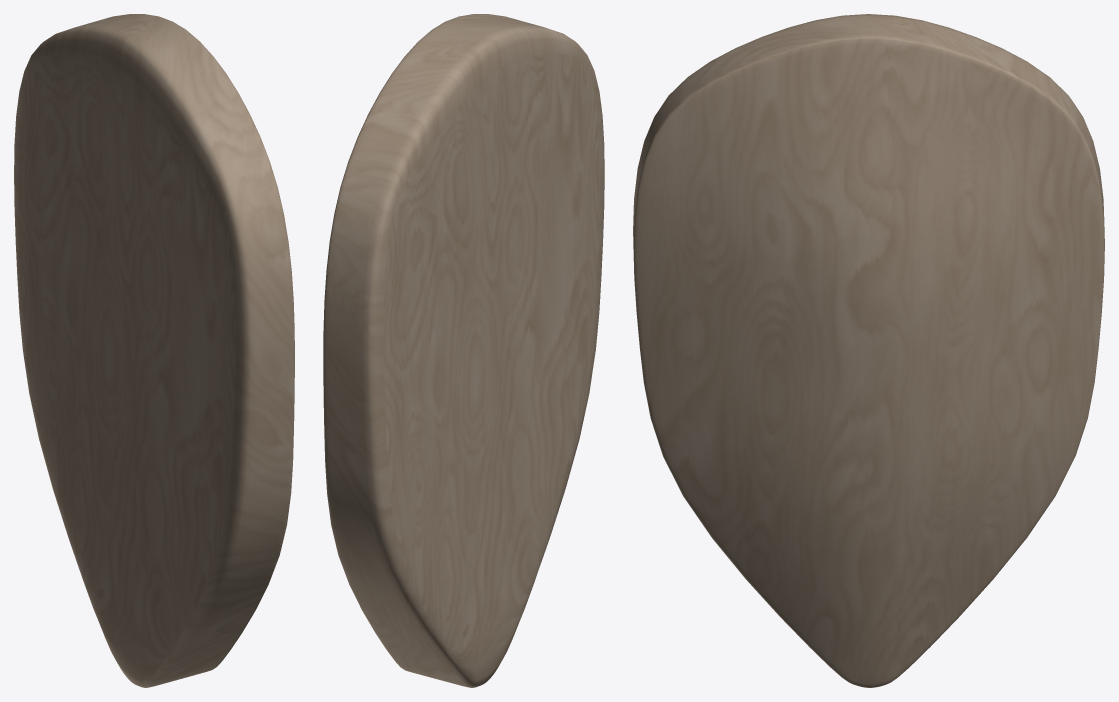
Rendered from Base moustache.fbx.
3 views of the same model, side by side, from view 1: azimuth 30°, elevation 25°; view 2: azimuth 150°, elevation 25°; view 3: azimuth 270°, elevation 25° (orthographic).
Parts seen in each view (by area): view 1: Base moustache; view 2: Base moustache; view 3: Base moustache.
Part boxes in pixels (x1,y1,x2,y2): Base moustache: (14,14,294,687); Base moustache: (323,14,604,687); Base moustache: (633,14,1104,687).
Bounding box in the file's own units: 20.2 × 107 × 71.13.
1 material, 1 textured.
